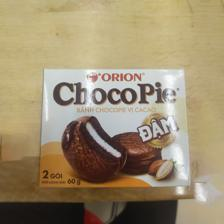Chocopie_cacao: (36, 65, 192, 189)
